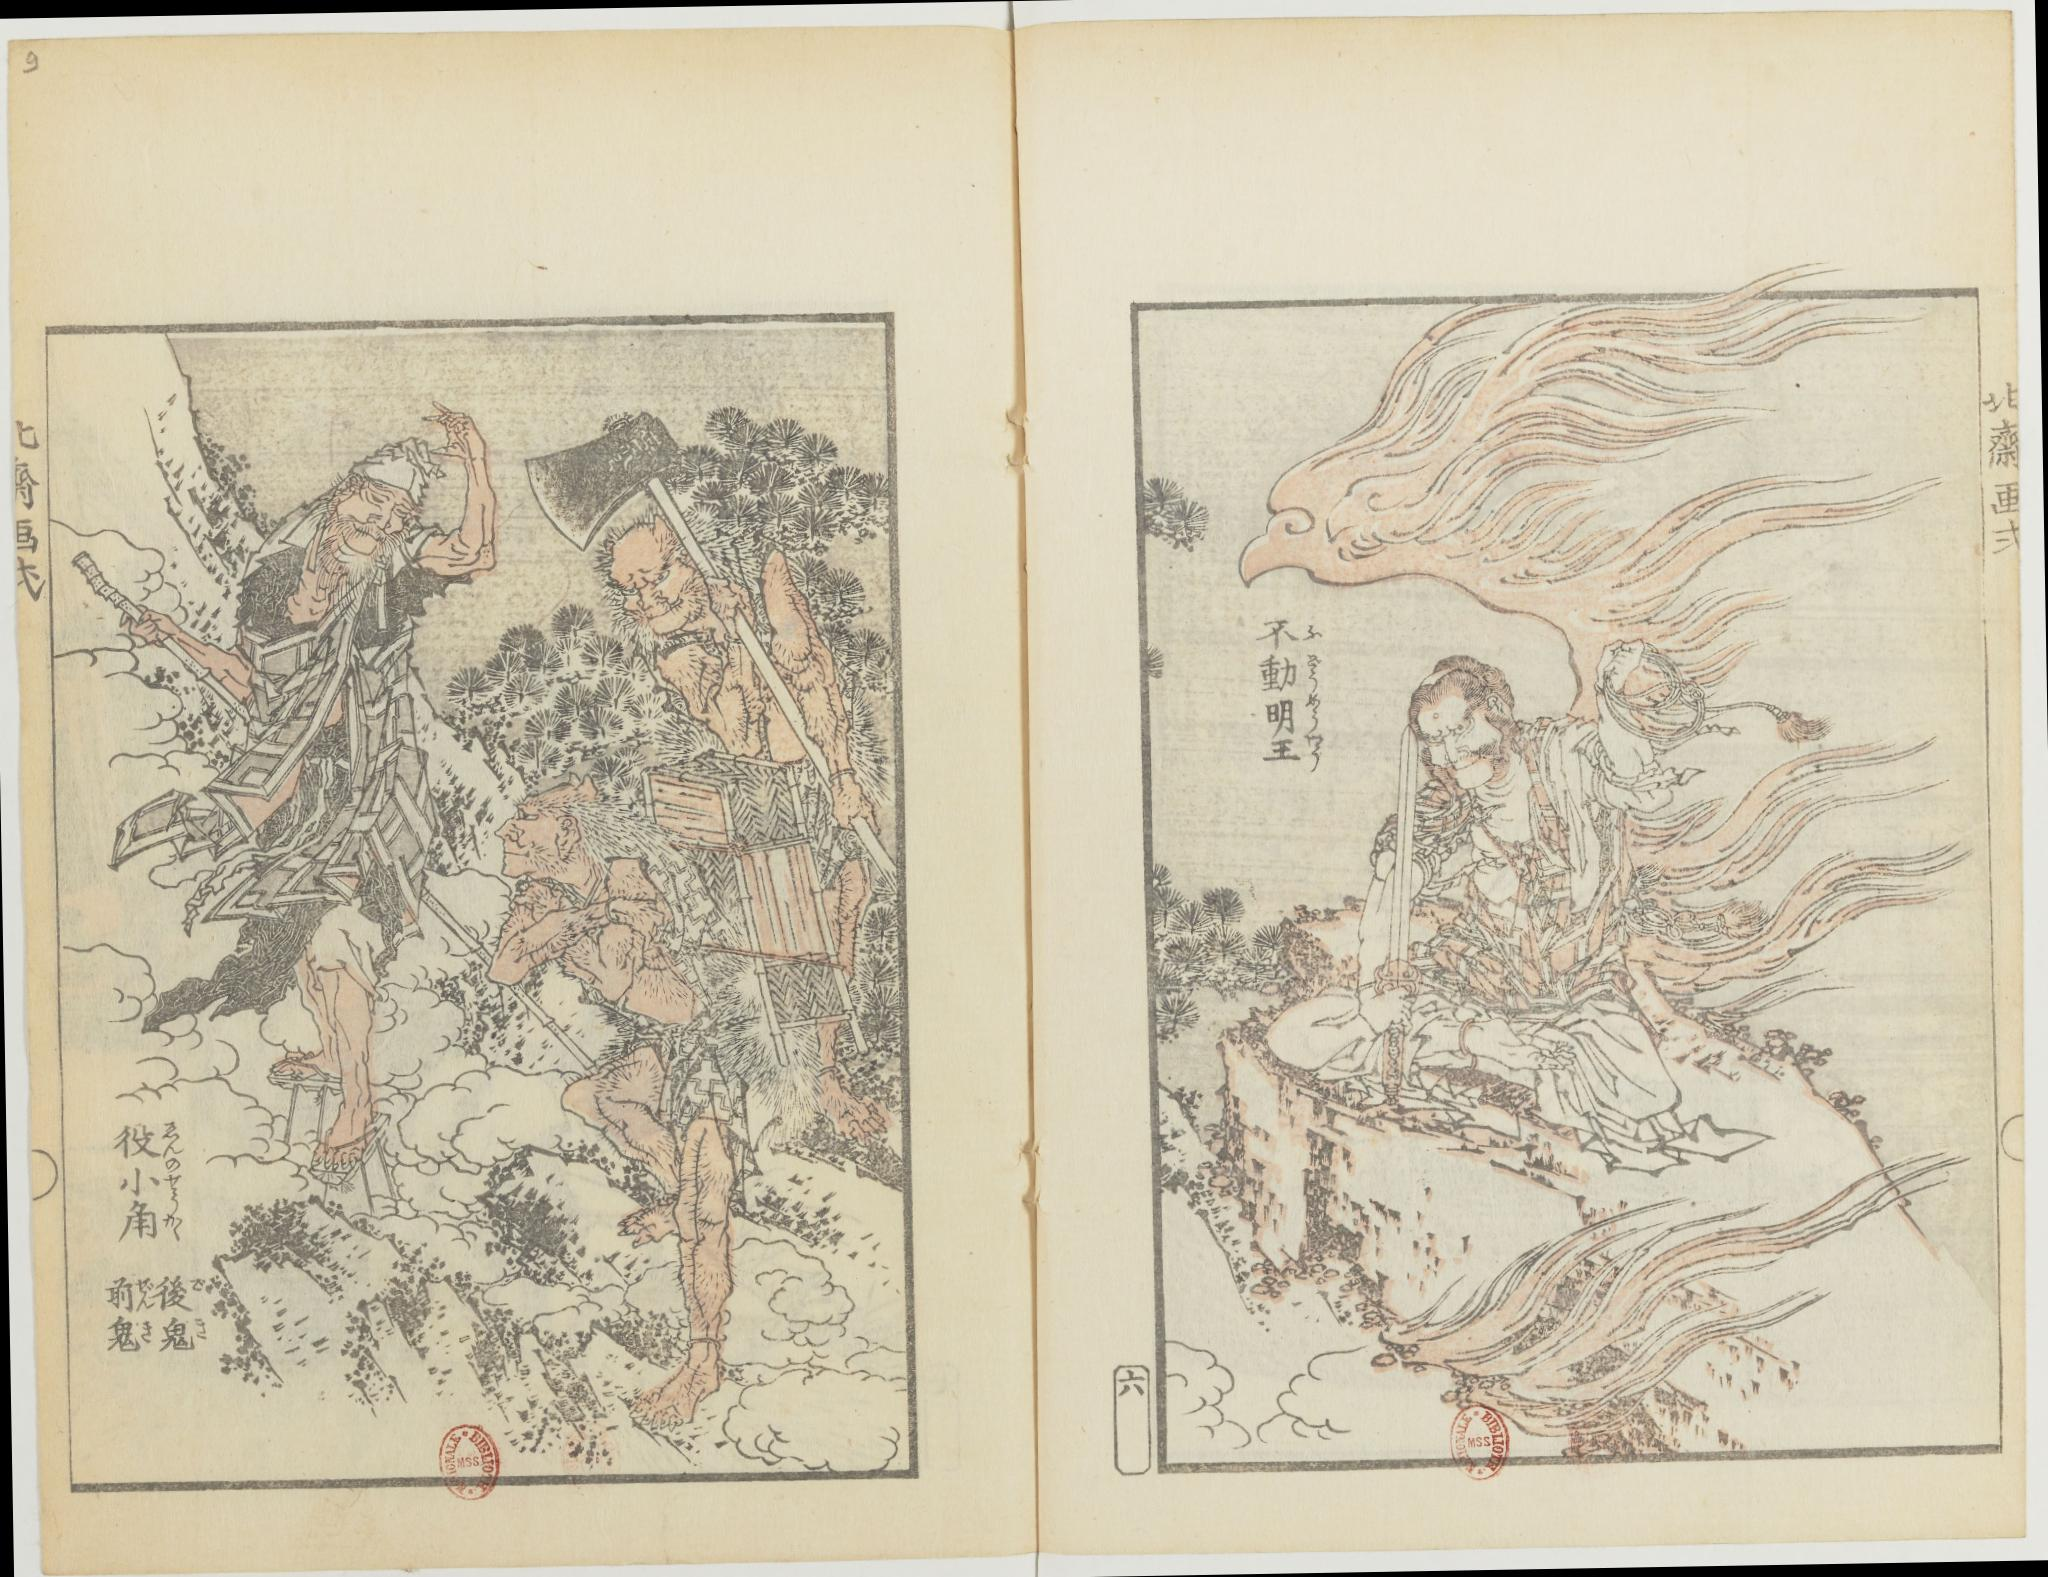MainZone-Character: (113, 1123, 186, 1171), (111, 1199, 189, 1242), (1263, 729, 1329, 775), (1254, 651, 1322, 692), (1256, 691, 1322, 732), (114, 1168, 187, 1204), (1253, 616, 1324, 651), (156, 1267, 209, 1314), (157, 1314, 214, 1353), (104, 1312, 157, 1353), (106, 1274, 156, 1310)
MainZone-Ruby: (161, 1125, 182, 1166), (159, 1204, 184, 1239), (1304, 732, 1326, 769), (1301, 653, 1322, 687), (134, 1276, 154, 1310), (1304, 692, 1321, 727), (164, 1171, 182, 1201), (191, 1315, 209, 1340), (1302, 620, 1322, 641), (139, 1319, 154, 1345), (187, 1272, 204, 1294)
